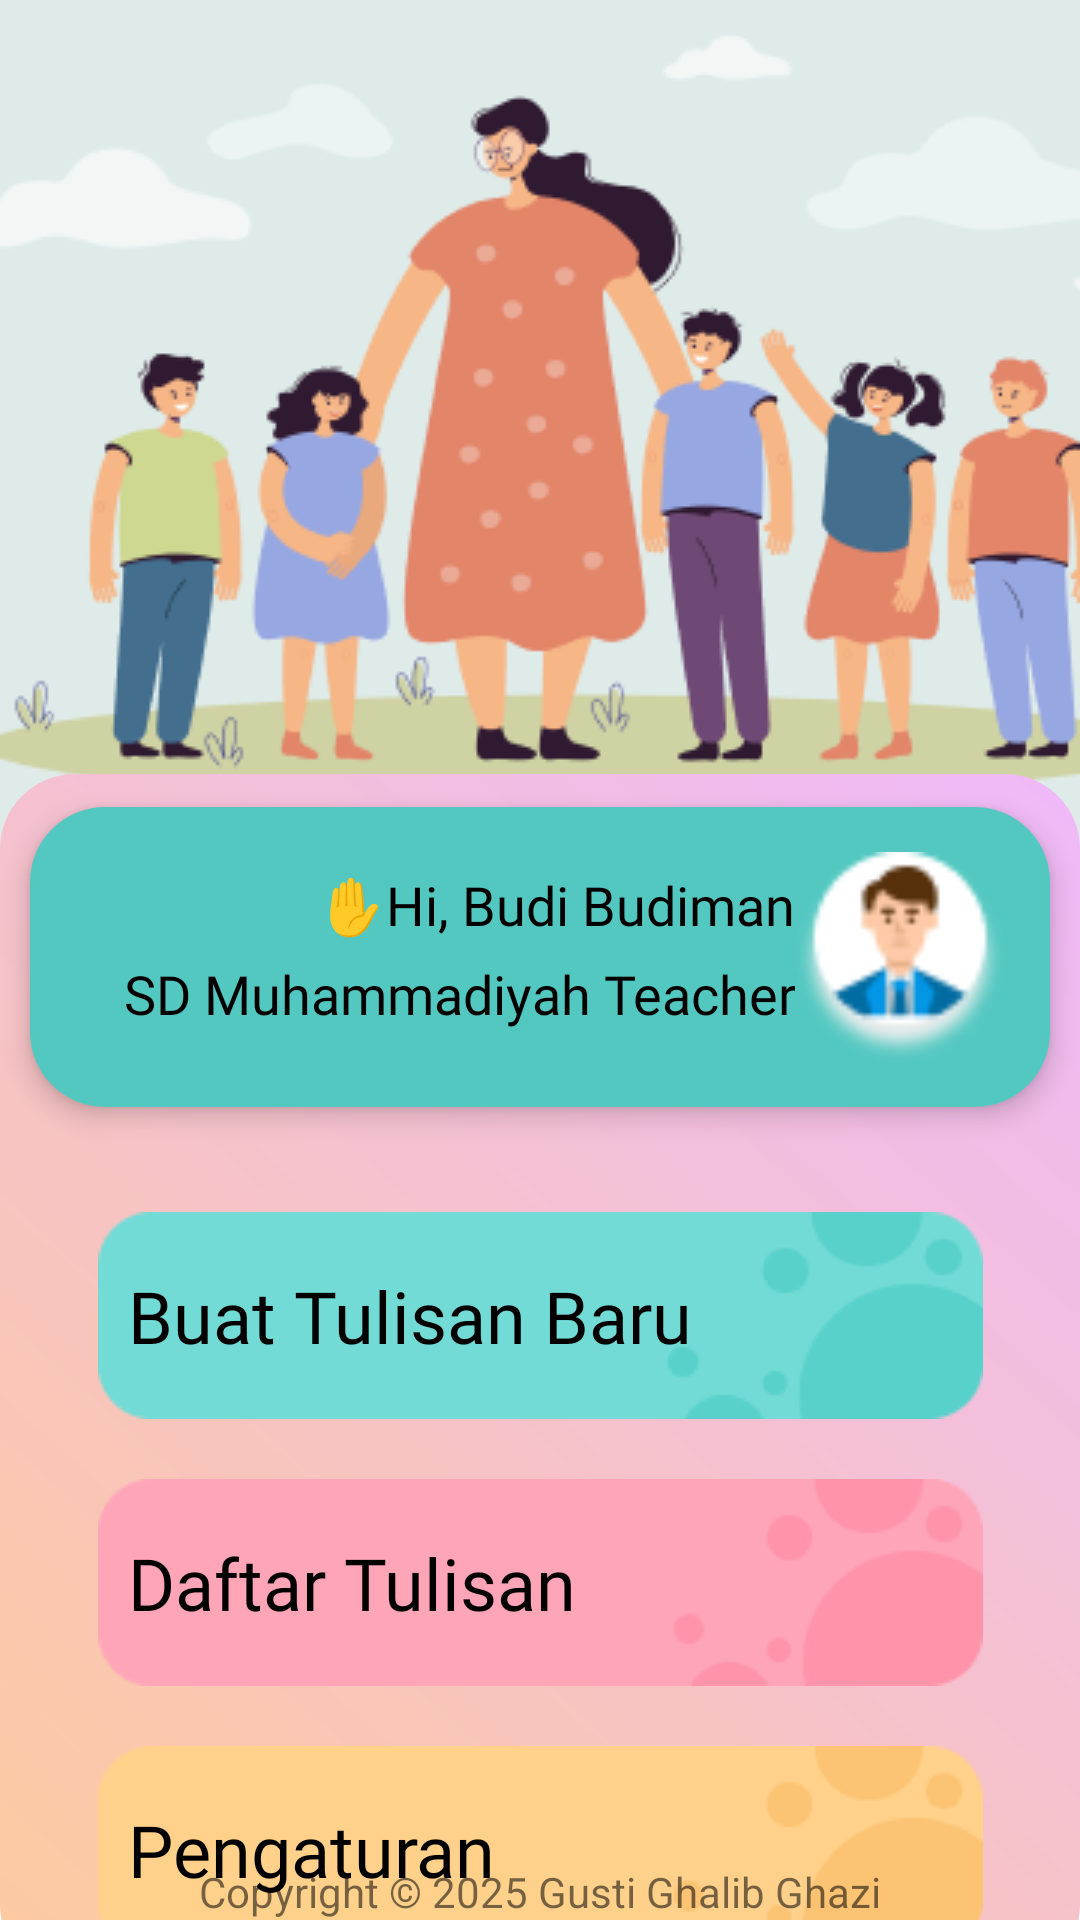

Locate icon controls on the screen. Image size 1080×1920, boxes as (x1, y1, x2, y2).
profile picture: (806, 852, 994, 1051)
